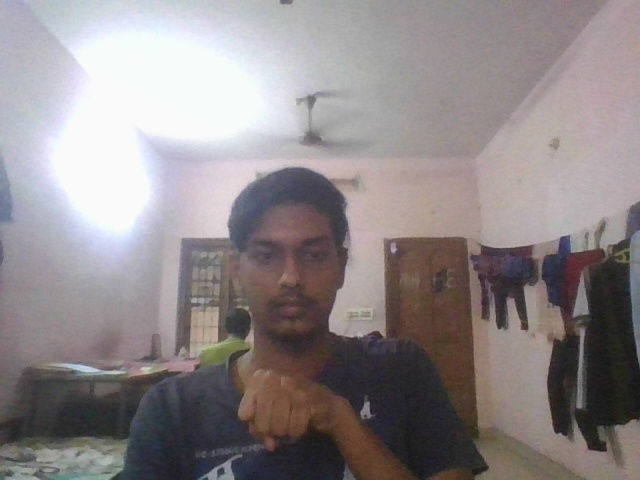yes: (233, 366, 354, 459)
